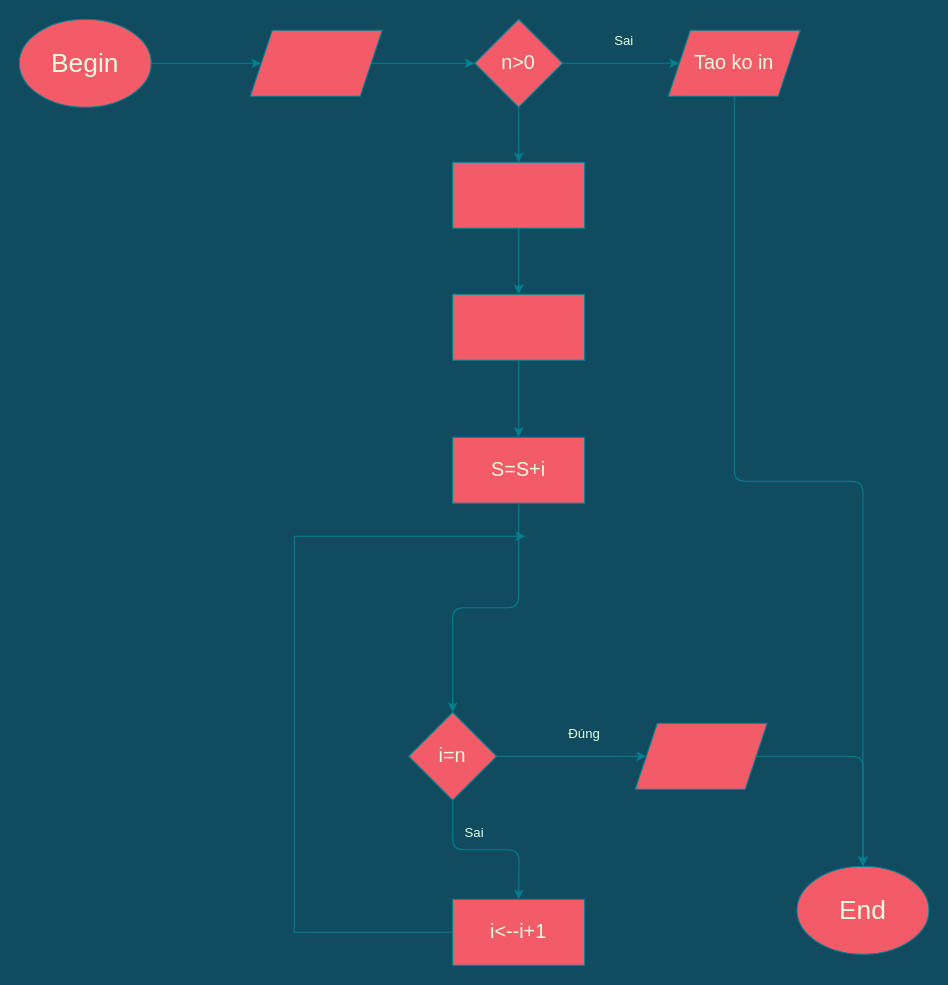
The diagram is 948 pixels wide and 985 high, and some of its shapes have lost their labels. Here are the shapes that lost their labels. From the top down, the box of each, then its label:
(249, 29, 382, 96): Nhập n
(452, 161, 585, 228): S<--0
(452, 293, 585, 360): i<--1
(634, 722, 767, 789): Xuất S
